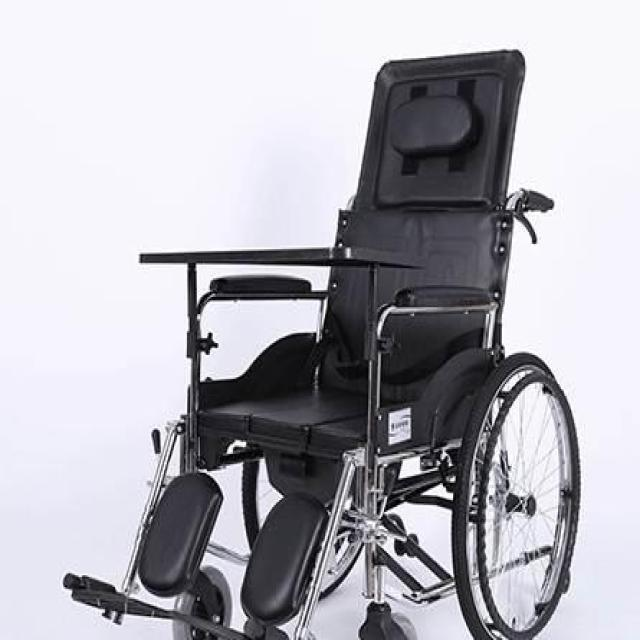wheelchairs: (48, 28, 591, 640)
